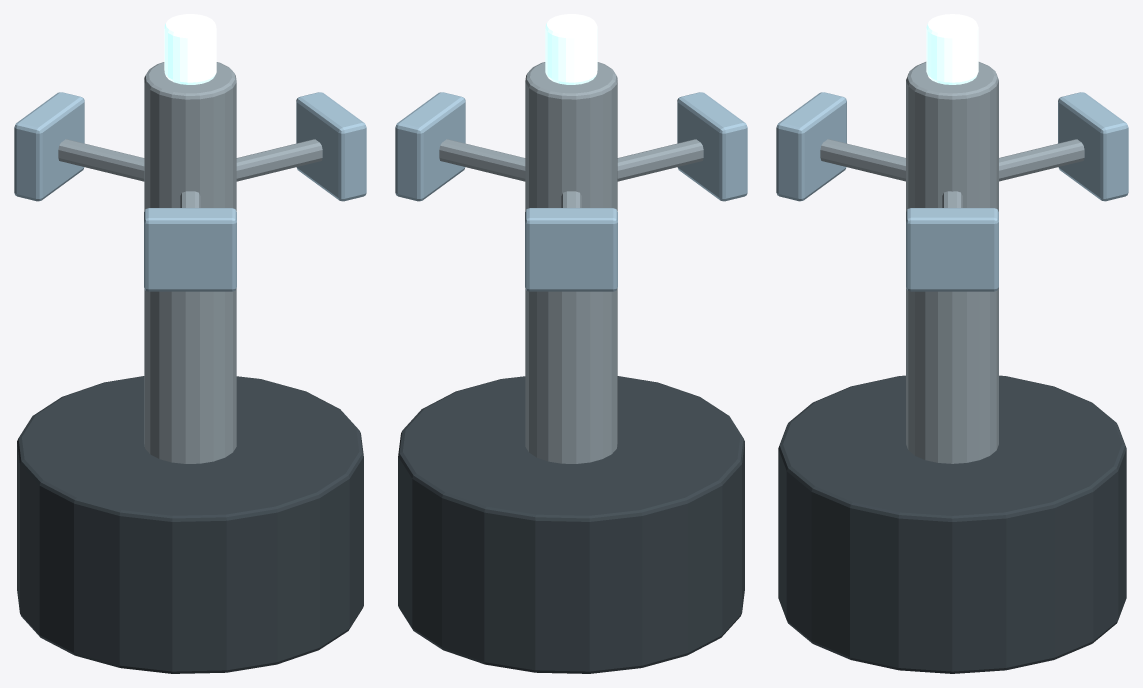
File: outpost.glb
The picture shows the model from 3 angles, left to right: view 1: azimuth 30°, elevation 25°; view 2: azimuth 150°, elevation 25°; view 3: azimuth 270°, elevation 25°; orthographic projection.
Visible parts, largest first — view 1: Pedestal, Shaft, ArmorRotor_TeamPrimary, ArmorRotor_BrushedTitanium, Sensor; view 2: Pedestal, Shaft, ArmorRotor_TeamPrimary, ArmorRotor_BrushedTitanium, Sensor; view 3: Pedestal, Shaft, ArmorRotor_TeamPrimary, ArmorRotor_BrushedTitanium, Sensor.
Part boxes in pixels (x1,y1,x2,y2): Pedestal: [17, 376, 363, 673]; Shaft: [144, 62, 236, 463]; ArmorRotor_TeamPrimary: [14, 92, 366, 291]; ArmorRotor_BrushedTitanium: [58, 139, 322, 207]; Sensor: [164, 14, 216, 84]; Pedestal: [398, 376, 744, 673]; Shaft: [525, 62, 617, 463]; ArmorRotor_TeamPrimary: [395, 92, 747, 291]; ArmorRotor_BrushedTitanium: [439, 139, 703, 207]; Sensor: [545, 14, 597, 84]; Pedestal: [778, 375, 1126, 673]; Shaft: [906, 62, 998, 463]; ArmorRotor_TeamPrimary: [776, 92, 1128, 291]; ArmorRotor_BrushedTitanium: [820, 139, 1084, 207]; Sensor: [926, 14, 978, 84].
Size of the model in its own units: 0.6075 by 1.1 by 0.6062.
